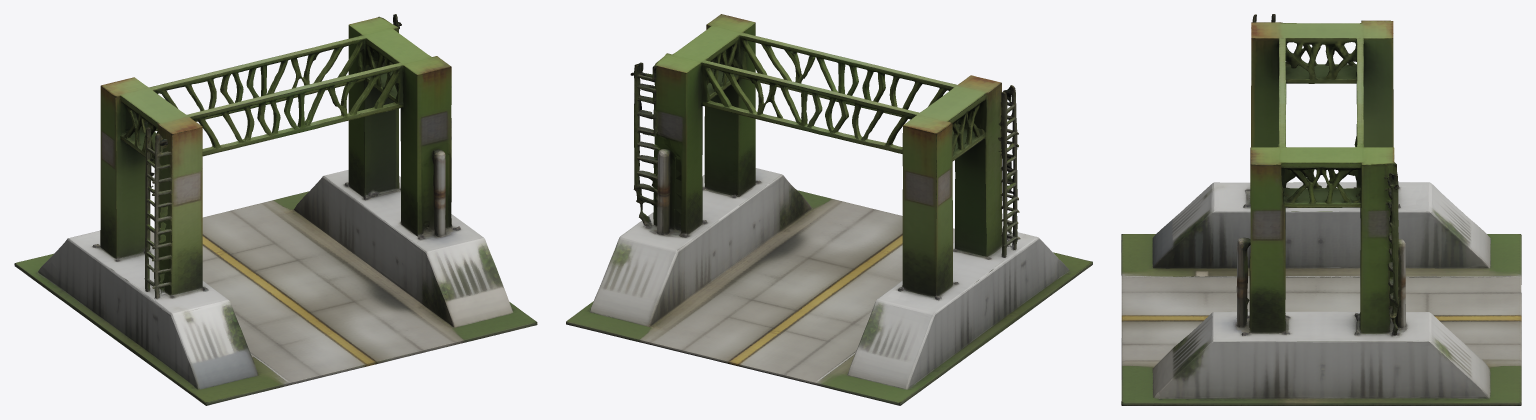
The model's file is sam-gantry.glb.
The picture shows the model from 3 angles, left to right: view 1: azimuth 30°, elevation 25°; view 2: azimuth 150°, elevation 25°; view 3: azimuth 270°, elevation 25°; orthographic projection. The views are drawn at different scales.
Visible parts, largest first — view 1: geometry_0; view 2: geometry_0; view 3: geometry_0.
Boxes of the visible parts, x1,y1,x2,y2 form: geometry_0: (14, 14, 537, 405); geometry_0: (566, 14, 1092, 405); geometry_0: (1121, 14, 1521, 405).
Bounding box in the file's own units: 1 × 0.6358 × 1.
Materials: 1 (1 with a texture image).
